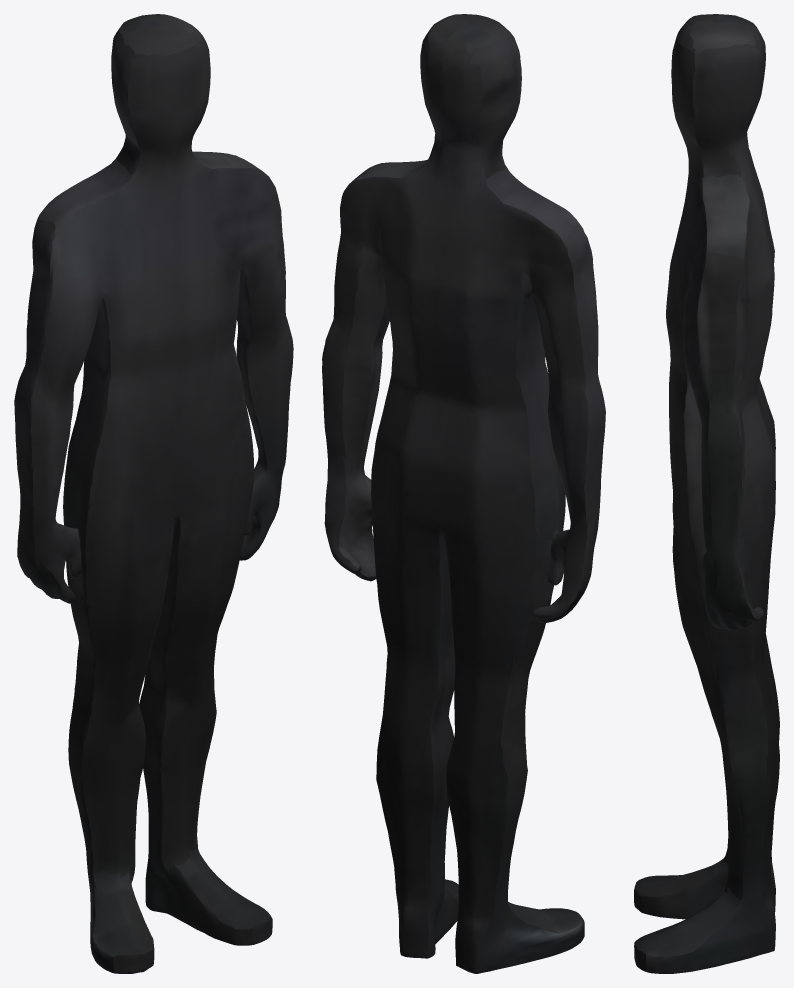
Rendered from figure.glb.
3 views of the same model, side by side, from view 1: azimuth 30°, elevation 25°; view 2: azimuth 150°, elevation 25°; view 3: azimuth 270°, elevation 25° (orthographic).
Visible parts, largest first — view 1: geometry_0; view 2: geometry_0; view 3: geometry_0.
Part boxes in pixels (box(x1,y1,x2,y2)): geometry_0: box(14, 14, 293, 973); geometry_0: box(322, 14, 605, 973); geometry_0: box(634, 14, 779, 973).
Size of the model in its own units: 0.5487 by 1.8 by 0.2608.
1 material, 1 textured.
